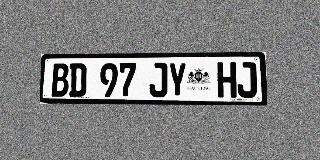7: (118, 63, 136, 97)
9: (100, 63, 118, 97)
B: (51, 63, 69, 97)
D: (69, 63, 87, 97)
H: (217, 62, 237, 98)
J: (237, 62, 257, 98), (149, 63, 167, 97)
Y: (168, 62, 186, 97)
